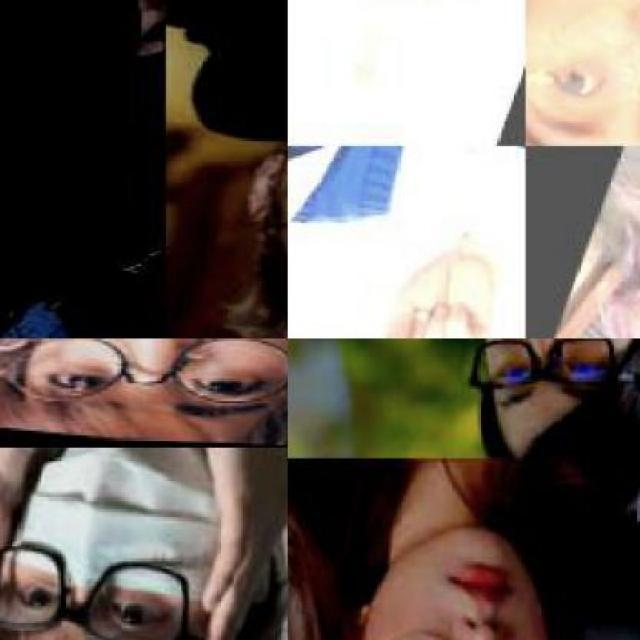glasses: (0, 338, 286, 422), (0, 544, 183, 638), (463, 338, 634, 399)
